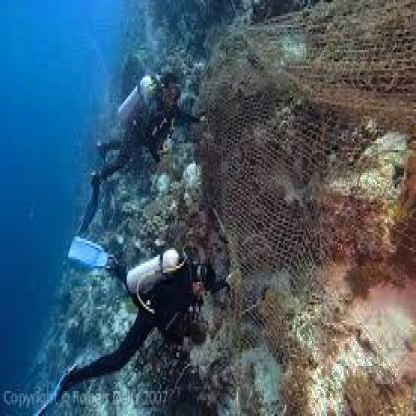net: (211, 36, 416, 416)
